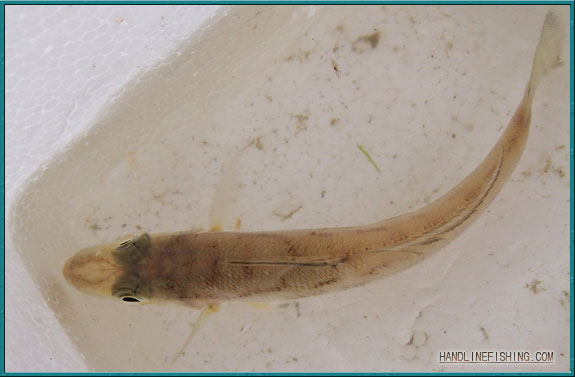kiss: (58, 22, 566, 328)
